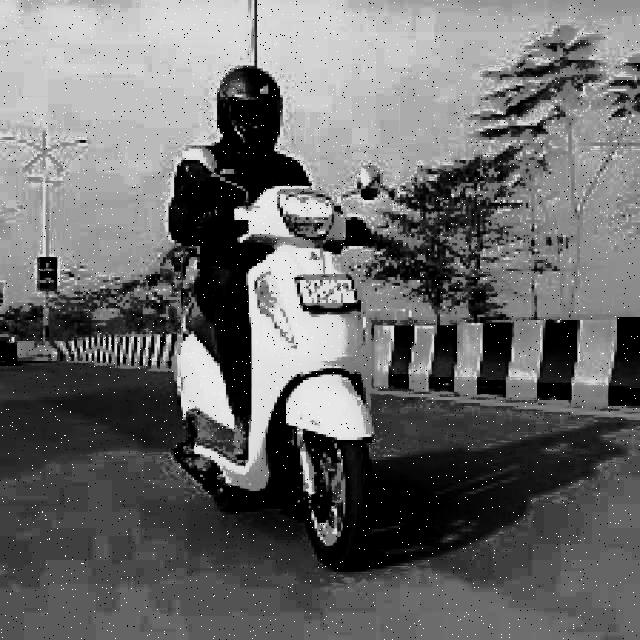Bike: (159, 184, 369, 566)
